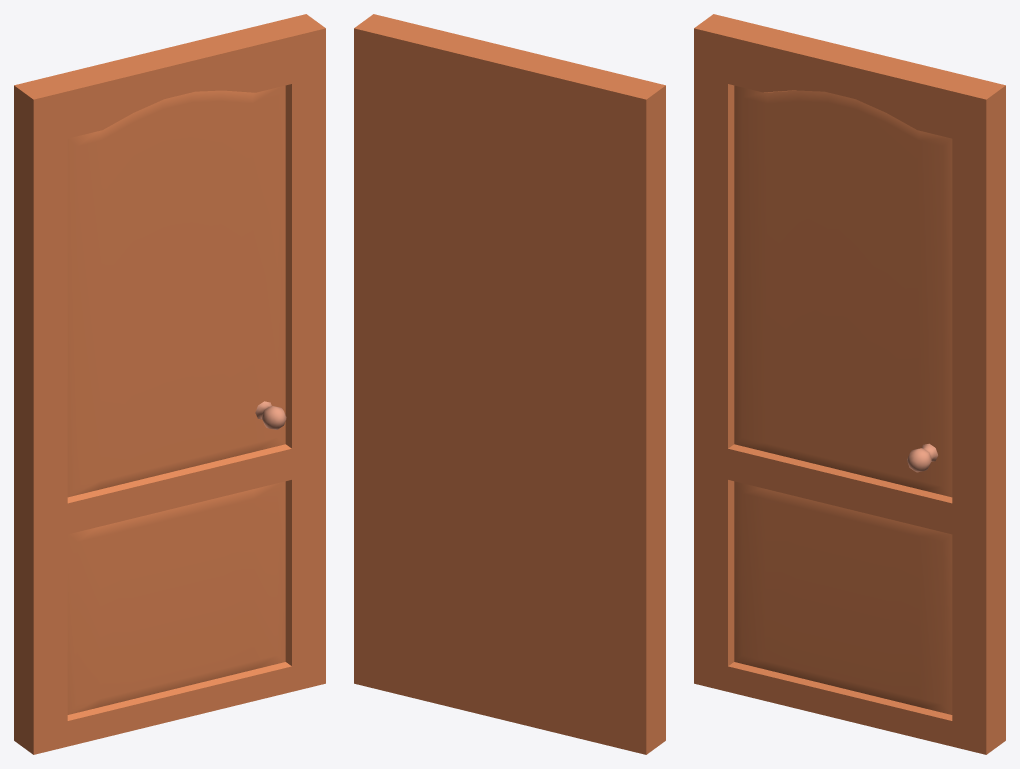
Rendered from SP_House10_Door01.fbx.
3 views of the same model, side by side, from view 1: azimuth 30°, elevation 25°; view 2: azimuth 150°, elevation 25°; view 3: azimuth 330°, elevation 25° (orthographic).
Parts seen in each view (by area): view 1: SP_House10_Door01; view 2: SP_House10_Door01; view 3: SP_House10_Door01.
Boxes of the visible parts, <box> form: SP_House10_Door01: <box>14,14,325,754</box>; SP_House10_Door01: <box>354,14,665,754</box>; SP_House10_Door01: <box>694,14,1005,754</box>.
Bounding box in the file's own units: 1.2 × 2.56 × 0.2373.
